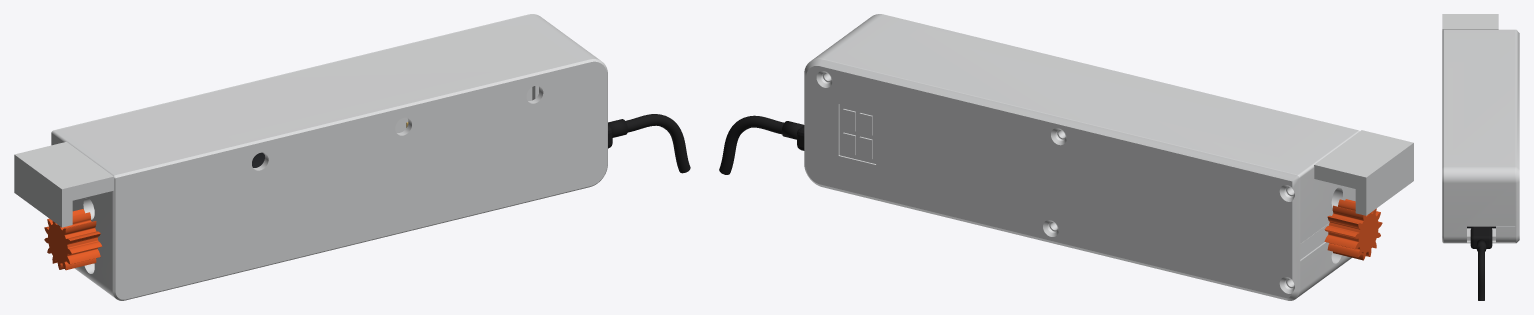
Rendered from fenster_closed.glb.
3 renders of one model, left to right at view 1: azimuth 30°, elevation 25°; view 2: azimuth 150°, elevation 25°; view 3: azimuth 270°, elevation 25°, orthographic. The views are drawn at different scales.
Parts seen in each view (by area): view 1: tub_nohook, pinion, c, lid; view 2: lid, tub_nohook, pinion, c; view 3: tub_nohook, lid, Cube, c, Cylinder.
Part boxes in pixels (box(x1,y1,x2,y2)): tub_nohook: box(14, 14, 607, 300); pinion: box(44, 209, 102, 270); c: box(625, 114, 690, 173); lid: box(51, 14, 538, 145); lid: box(804, 58, 1329, 300); tub_nohook: box(813, 14, 1413, 297); pinion: box(1324, 199, 1382, 260); c: box(719, 115, 783, 174); tub_nohook: box(1442, 14, 1515, 243); lid: box(1496, 29, 1519, 243); Cube: box(1470, 226, 1492, 248); c: box(1478, 246, 1484, 300); Cylinder: box(1476, 239, 1486, 251).
Bounding box in the file's own units: 0.2166 × 0.0521 × 0.037.
